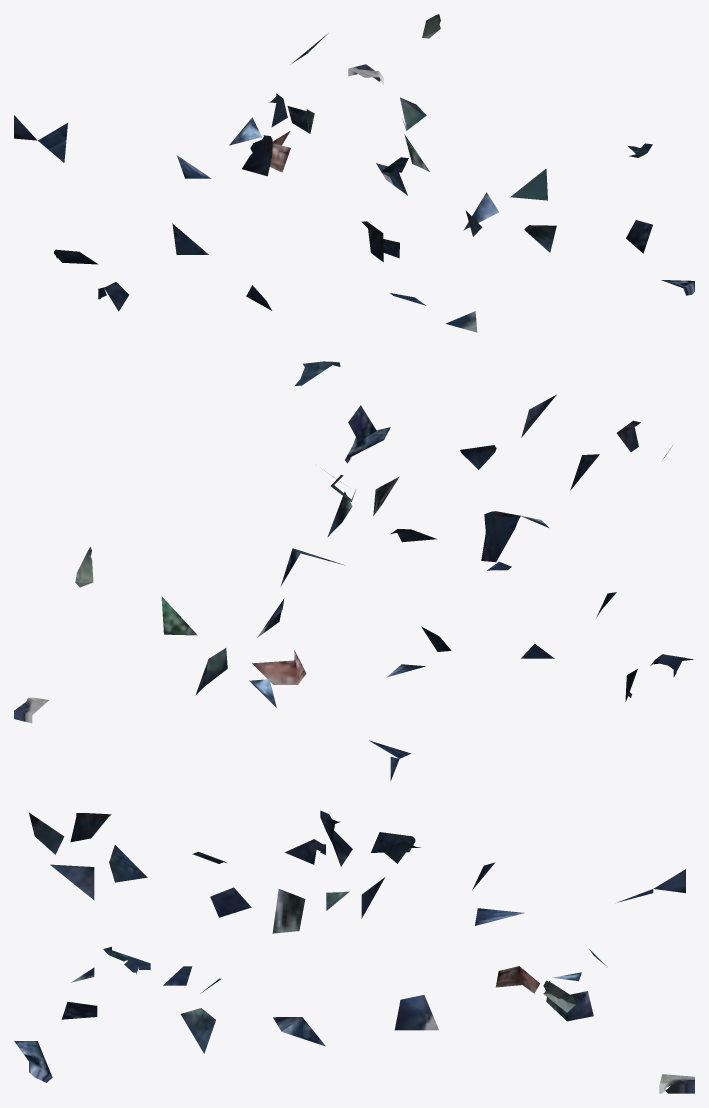
3 renders of one model, top to bottom at view 1: azimuth 30°, elevation 25°; view 2: azimuth 150°, elevation 25°; view 3: azimuth 270°, elevation 25°, orthographic. The views are drawn at different scales.
Parts seen in each view (by area): view 1: 30436272704370615413_1; view 2: 30436272704370615413_1; view 3: 30436272704370615413_1.
Part boxes in pixels (box(x1,y1,x2,y2)): 30436272704370615413_1: box(14, 14, 694, 332); 30436272704370615413_1: box(14, 361, 693, 780); 30436272704370615413_1: box(14, 810, 694, 1093).
Size of the model in its own units: 27.62 by 7.7 by 35.33.
1 material, 1 textured.
